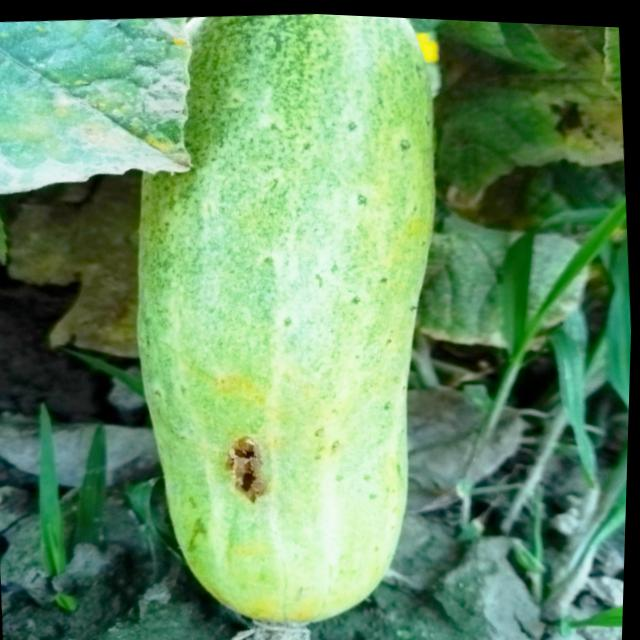Belly-Rot: (221, 428, 280, 508)
